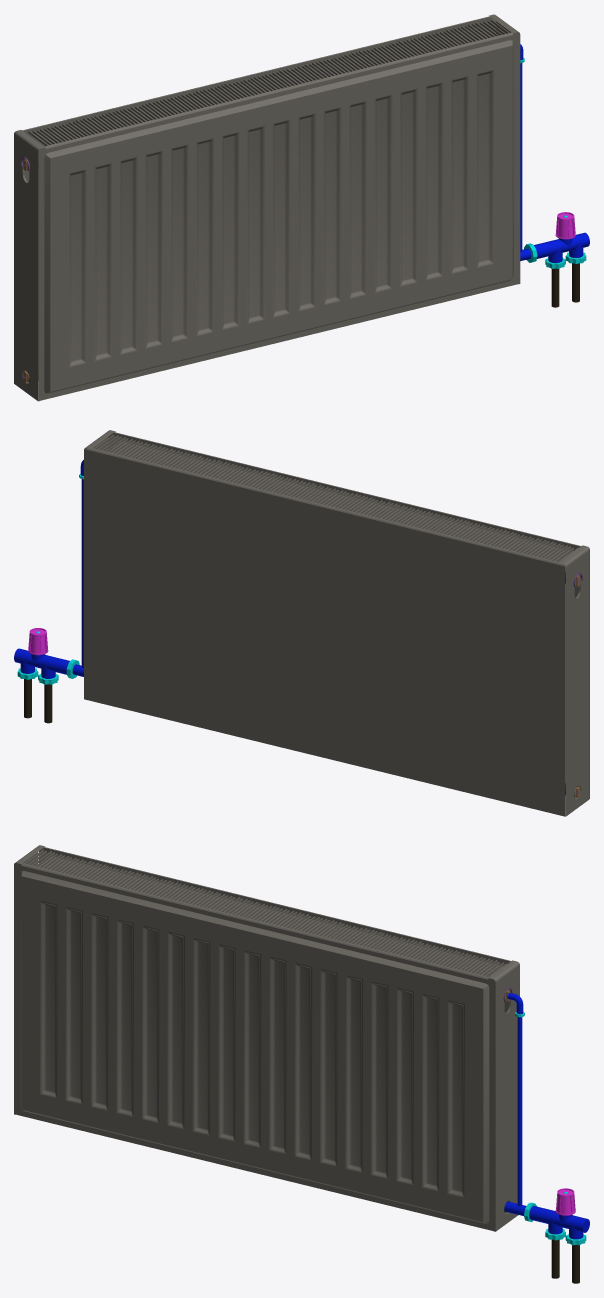
The model's file is radiator_asset.fbx.
3 renders of one model, top to bottom at view 1: azimuth 30°, elevation 25°; view 2: azimuth 150°, elevation 25°; view 3: azimuth 330°, elevation 25°, orthographic.
Visible parts, largest first — view 1: radiator; view 2: radiator; view 3: radiator.
Boxes of the visible parts, x1,y1,x2,y2 form: radiator: [14, 14, 589, 401]; radiator: [14, 430, 589, 816]; radiator: [14, 845, 589, 1283].
Bounding box in the file's own units: 1403 × 704 × 115.
